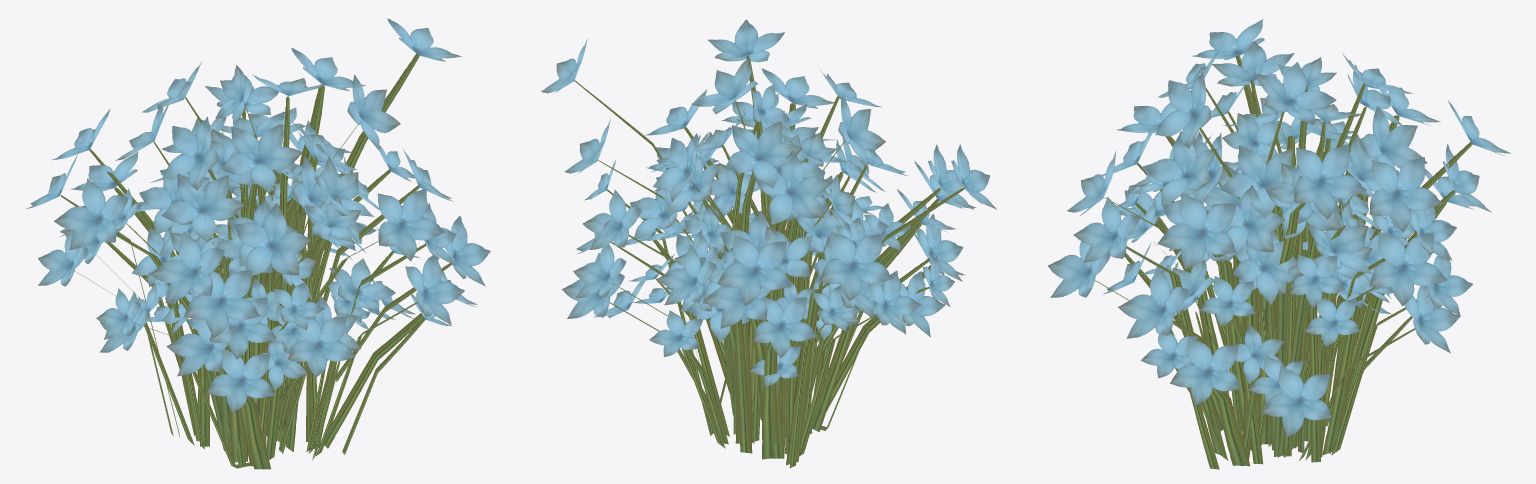
The model's file is SM_Ground_Blue_Flower_C.fbx.
3 renders of one model, left to right at view 1: azimuth 30°, elevation 25°; view 2: azimuth 150°, elevation 25°; view 3: azimuth 270°, elevation 25°, orthographic. The views are drawn at different scales.
Parts seen in each view (by area): view 1: SM_Ground_Blue_Flower_C_LOD0; view 2: SM_Ground_Blue_Flower_C_LOD0; view 3: SM_Ground_Blue_Flower_C_LOD0.
Part boxes in pixels (bbox=[...]): SM_Ground_Blue_Flower_C_LOD0: bbox=[26, 18, 490, 469]; SM_Ground_Blue_Flower_C_LOD0: bbox=[541, 19, 997, 467]; SM_Ground_Blue_Flower_C_LOD0: bbox=[1048, 19, 1510, 469].
Size of the model in its own units: 33.38 by 30.23 by 28.01.
Materials: 1 (1 with a texture image).
